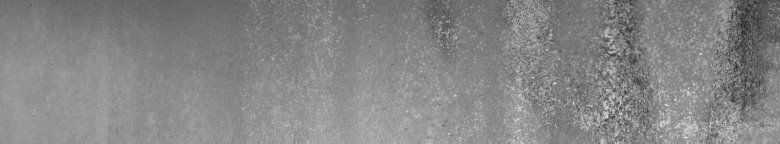hc: (544, 4, 642, 128)
